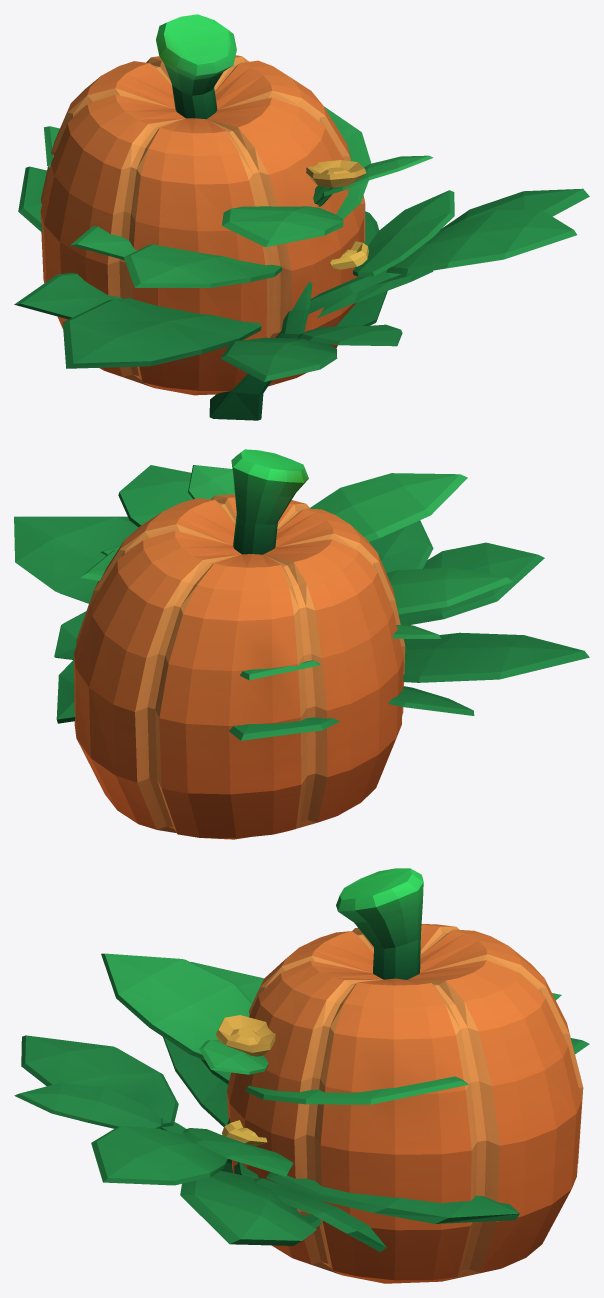
The model's file is crop_pumpkin_stage3.glb.
3 views of the same model, one above another, from view 1: azimuth 30°, elevation 25°; view 2: azimuth 150°, elevation 25°; view 3: azimuth 270°, elevation 25° (orthographic). The views are drawn at different scales.
Visible parts, largest first — view 1: crop_pumpkin_stage3; view 2: crop_pumpkin_stage3; view 3: crop_pumpkin_stage3.
Part boxes in pixels (x1,y1,x2,y2): crop_pumpkin_stage3: (14, 14, 589, 420); crop_pumpkin_stage3: (14, 449, 589, 839); crop_pumpkin_stage3: (14, 868, 589, 1283).
Size of the model in its own units: 0.66 by 0.4 by 0.574.
Materials: 1 (1 with a texture image).
